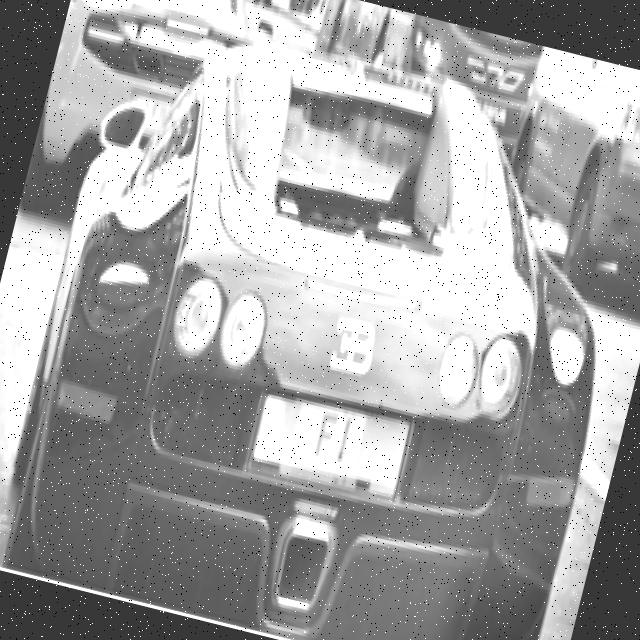Autre: (254, 399, 409, 487)
